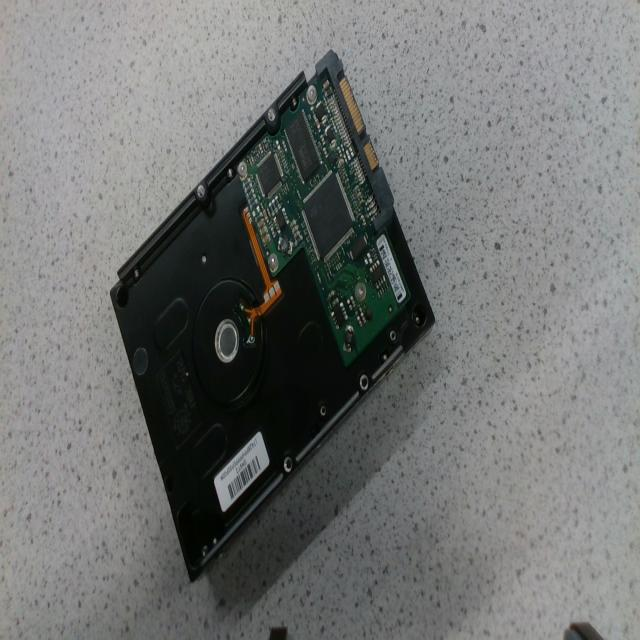case: (110, 51, 435, 580)
pcb: (236, 53, 409, 369)
screw: (354, 282, 366, 300), (306, 84, 316, 104), (268, 253, 278, 272), (237, 160, 247, 179)
